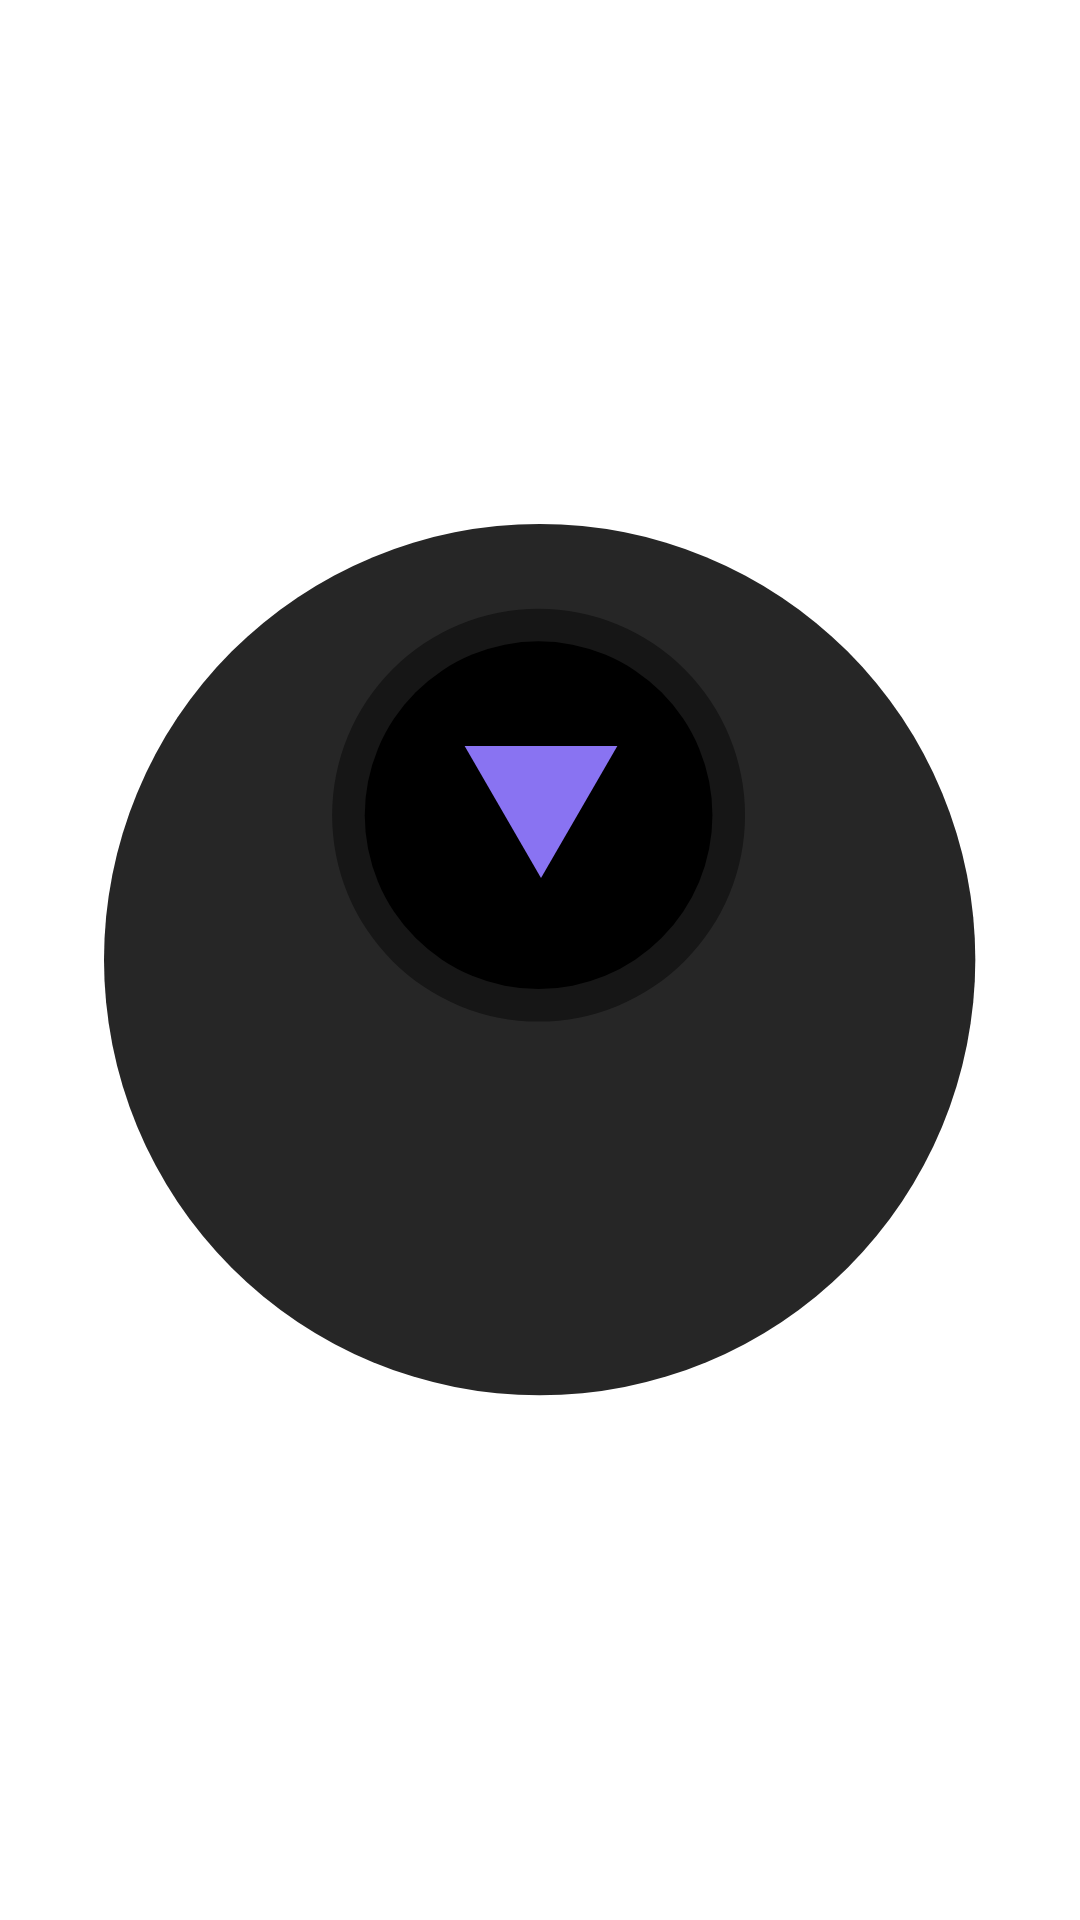

Named icons in this screenshot (1080 x 1920) and their bounding boxes, (x1, y1, x2, y2):
point center: (464, 746, 618, 878)
